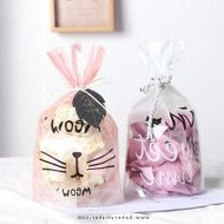snack: (27, 35, 133, 213), (117, 31, 213, 206)
